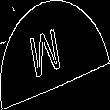M_S: (36, 24, 74, 86)
